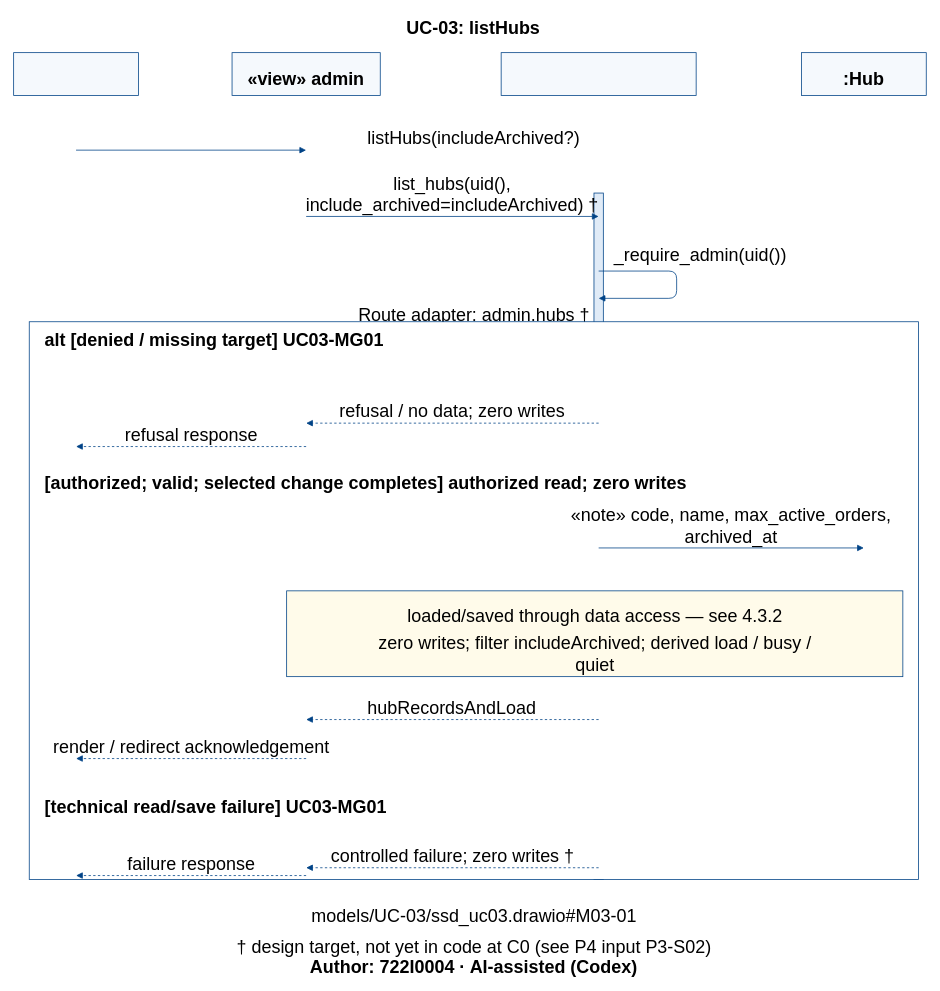
Image size: 940x991. Some labels were removed from this diagram. The shapes that lost their labels are listed below. From the top down, each one's centre as x and y in pixels, then its label:
(75,74): Admin
(598,74): :HubController
